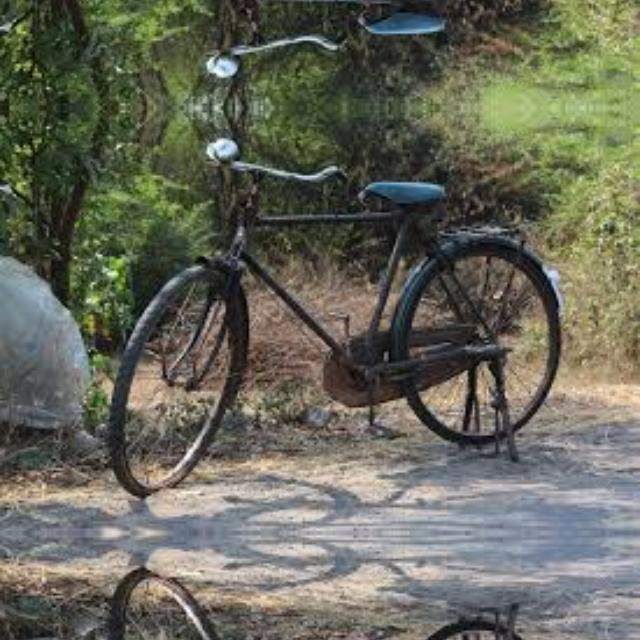obstacle: (99, 117, 567, 480), (99, 0, 567, 97), (99, 586, 567, 640)
